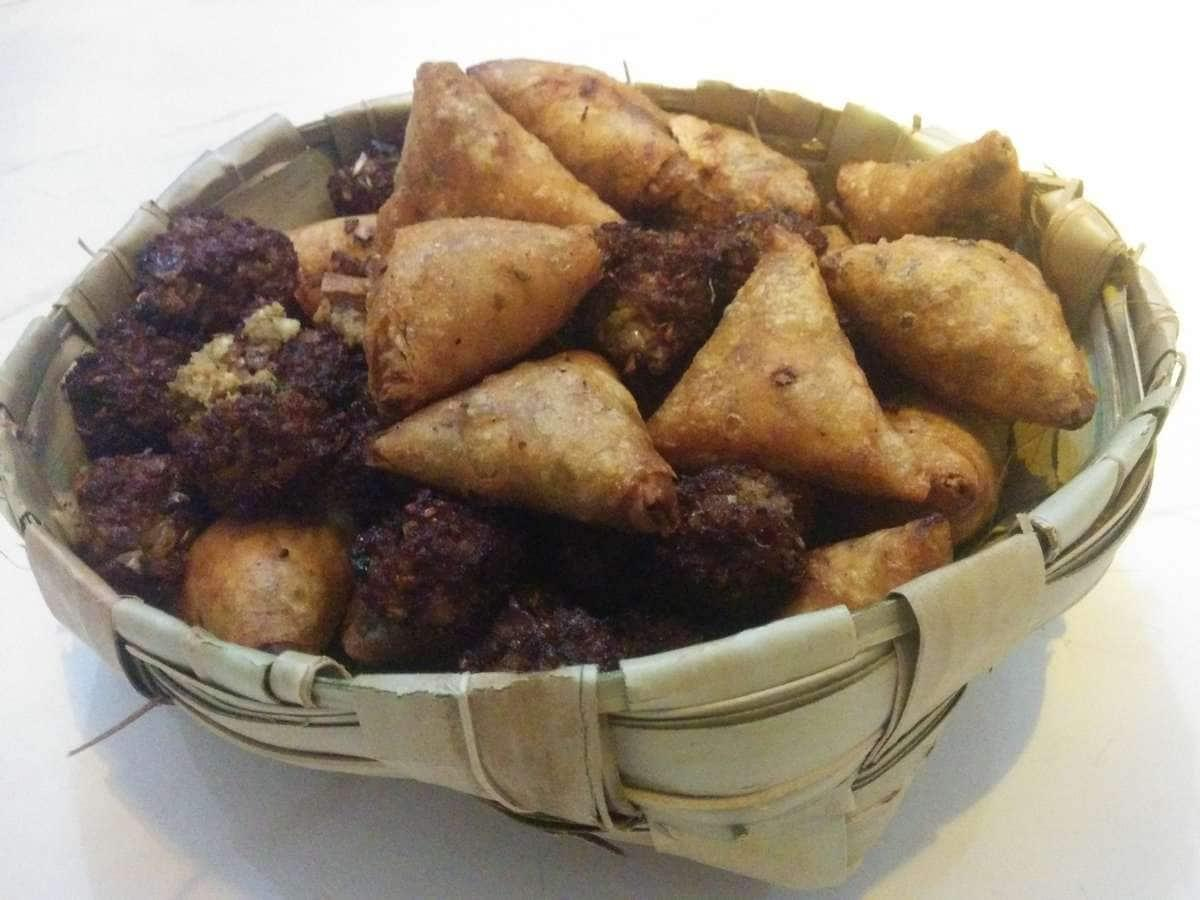samosa: (647, 227, 930, 502), (820, 234, 1097, 429)
